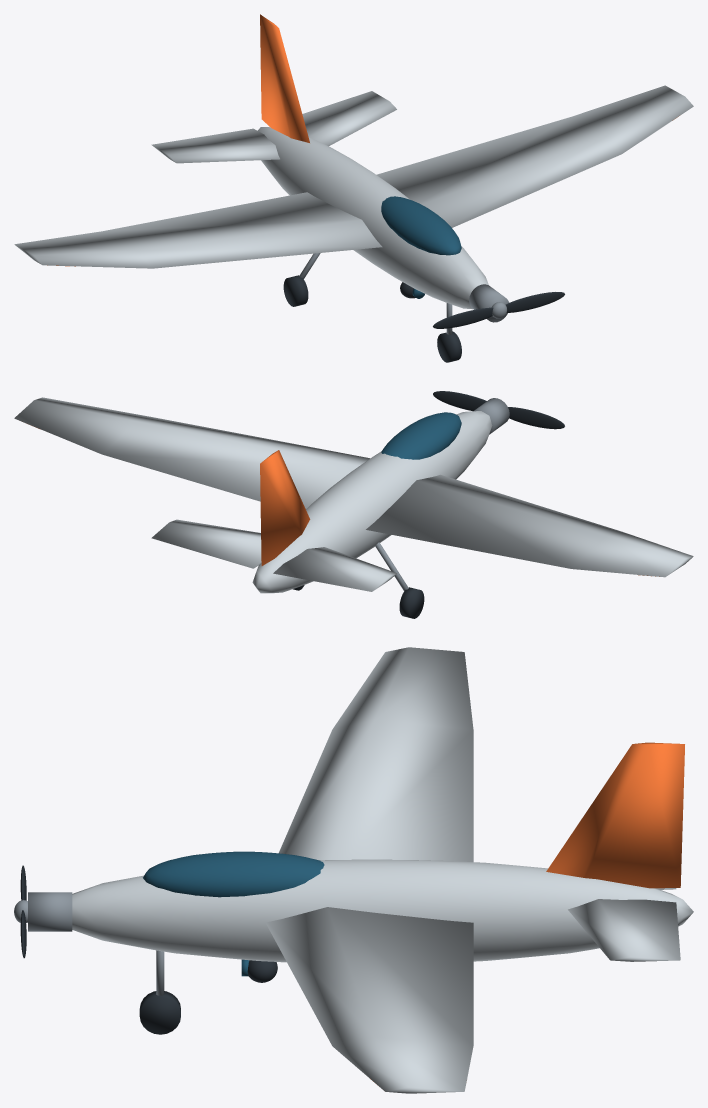
The model's file is fixed_wing.glb.
3 views of the same model, one above another, from view 1: azimuth 30°, elevation 25°; view 2: azimuth 150°, elevation 25°; view 3: azimuth 270°, elevation 25° (orthographic). The views are drawn at different scales.
Parts seen in each view (by area): view 1: Main_wing.001, Main_wing, Fuselage, Vertical_stabilizer, Tailplane, Canopy, Tailplane.001, Nose_propeller, Nose_motor, Wheel, Wheel.002; view 2: Main_wing, Main_wing.001, Fuselage, Vertical_stabilizer, Tailplane.001, Tailplane, Canopy, Nose_propeller, Nose_motor, Wheel; view 3: Fuselage, Main_wing, Main_wing.001, Vertical_stabilizer, Canopy, Tailplane.001, Nose_motor, Wheel.002.
Boxes of the visible parts, box(x1,y1,x2,y2) form: Main_wing.001: box(376, 85, 693, 227); Main_wing: box(14, 192, 382, 268); Fuselage: box(257, 127, 488, 309); Vertical_stabilizer: box(260, 14, 309, 142); Tailplane: box(151, 128, 279, 163); Canopy: box(381, 196, 461, 255); Tailplane.001: box(302, 91, 396, 146); Nose_propeller: box(433, 292, 564, 328); Nose_motor: box(469, 284, 509, 322); Wheel: box(283, 275, 308, 306); Wheel.002: box(437, 331, 461, 362); Main_wing: box(366, 474, 693, 577); Main_wing.001: box(14, 397, 369, 508); Fuselage: box(252, 411, 492, 593); Vertical_stabilizer: box(260, 450, 310, 565); Tailplane.001: box(151, 519, 261, 568); Tailplane: box(273, 547, 396, 591); Canopy: box(381, 412, 461, 459); Nose_propeller: box(433, 391, 564, 429); Nose_motor: box(474, 398, 509, 434); Wheel: box(399, 587, 424, 618); Fuselage: box(72, 859, 693, 962); Main_wing: box(279, 647, 473, 861); Main_wing.001: box(266, 907, 473, 1093); Vertical_stabilizer: box(546, 742, 684, 888); Canopy: box(143, 851, 324, 897); Tailplane.001: box(568, 899, 680, 961); Nose_motor: box(28, 892, 72, 931); Wheel.002: box(139, 991, 180, 1034).
Size of the model in its own units: 2.36 by 0.719 by 1.54.
